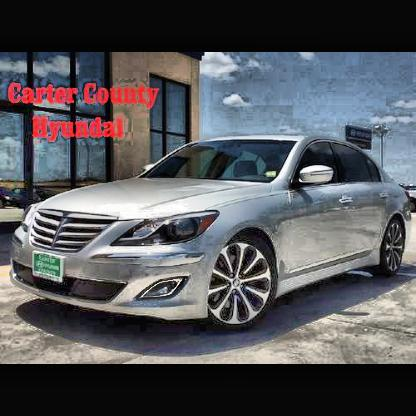Hyundai Genesis Sedan 2012: (12, 138, 414, 330)
